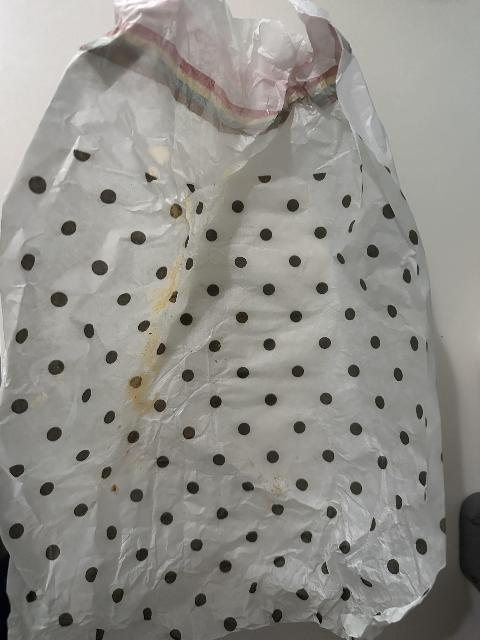Kagit: (0, 1, 448, 640)
